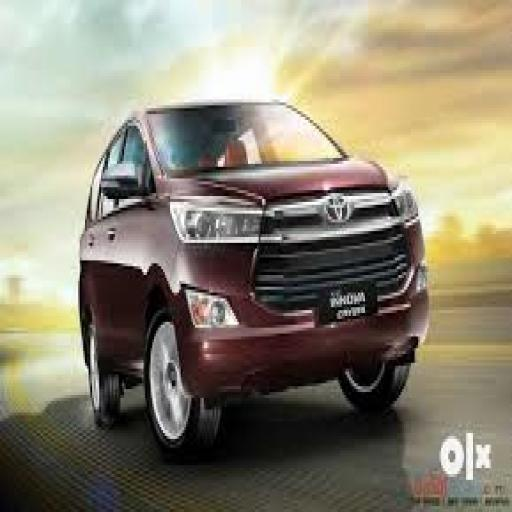car: (72, 84, 448, 471)
